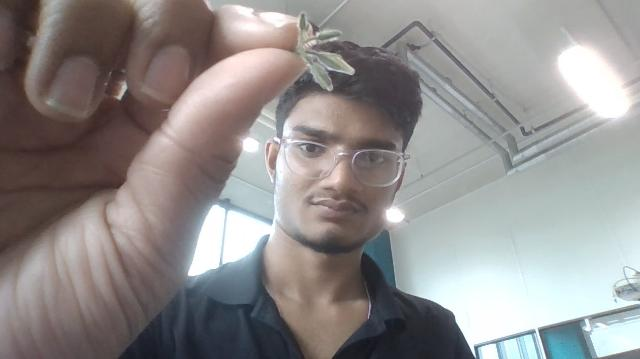Flower Bud: (312, 51, 355, 73), (306, 60, 332, 92), (312, 29, 342, 43)
